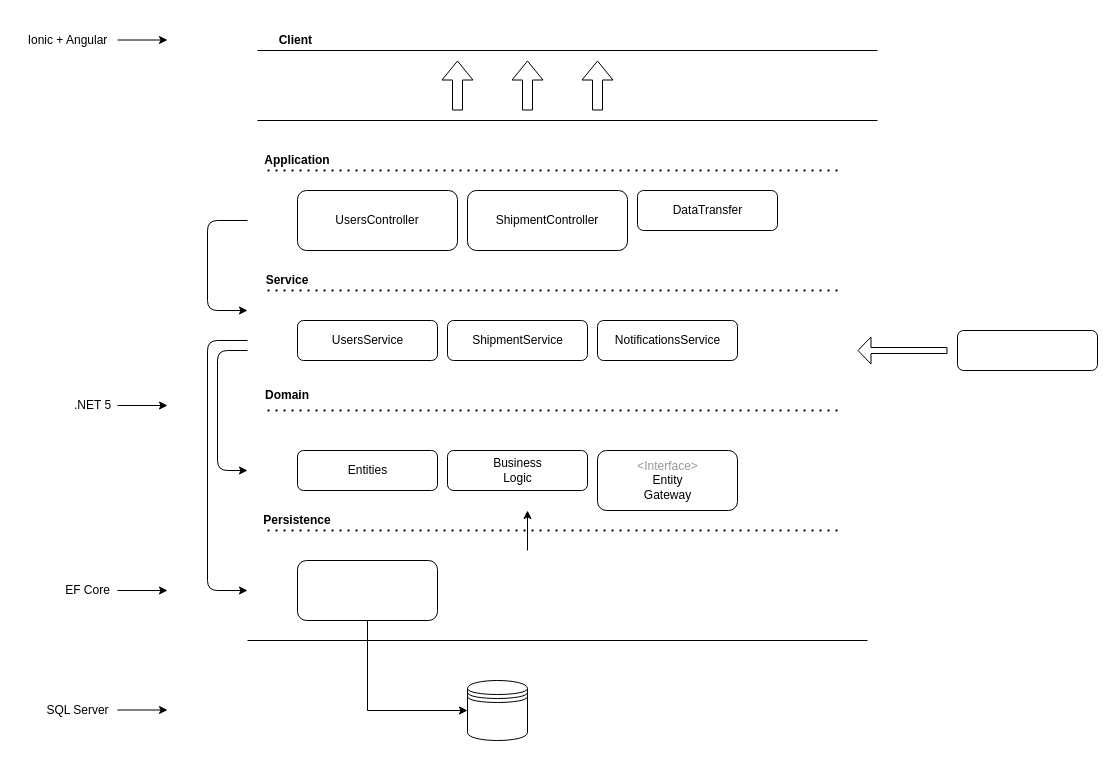
This 1115x758 diagram has some shape labels left out. The centre of each missing label's shape, as x and y in pixels:
"Entity Gateway implementation" goes at (367,590).
"External API" goes at (1027,350).
